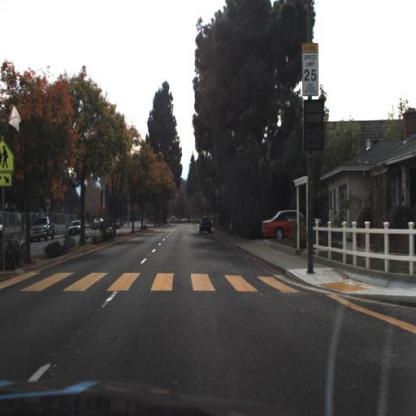car: (260, 210, 323, 240), (31, 217, 58, 243), (199, 215, 215, 236), (68, 219, 85, 235)
